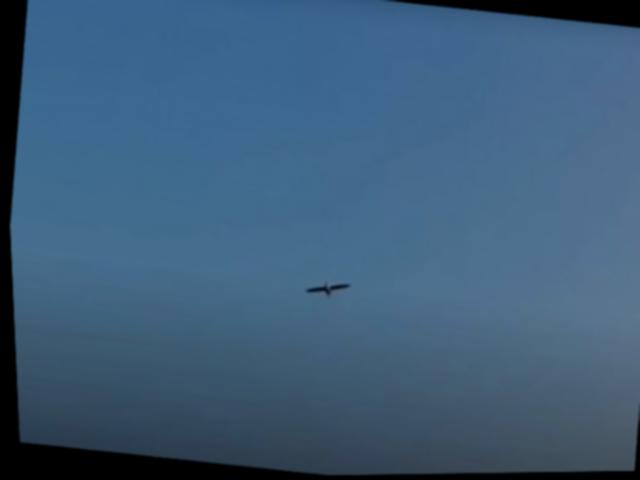iha: (302, 280, 347, 300)
